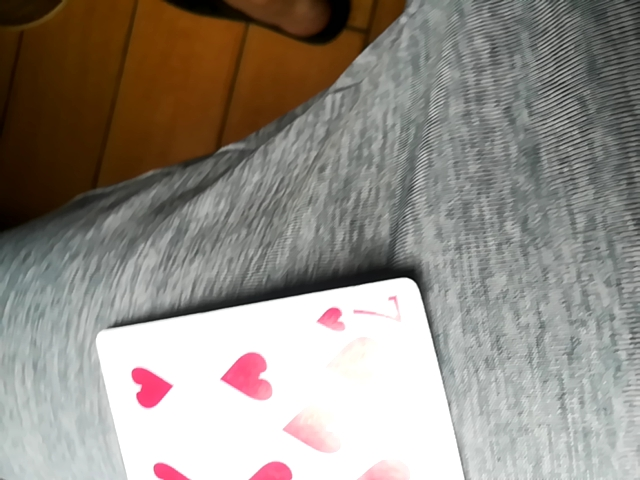hx 7: (98, 275, 463, 477)
